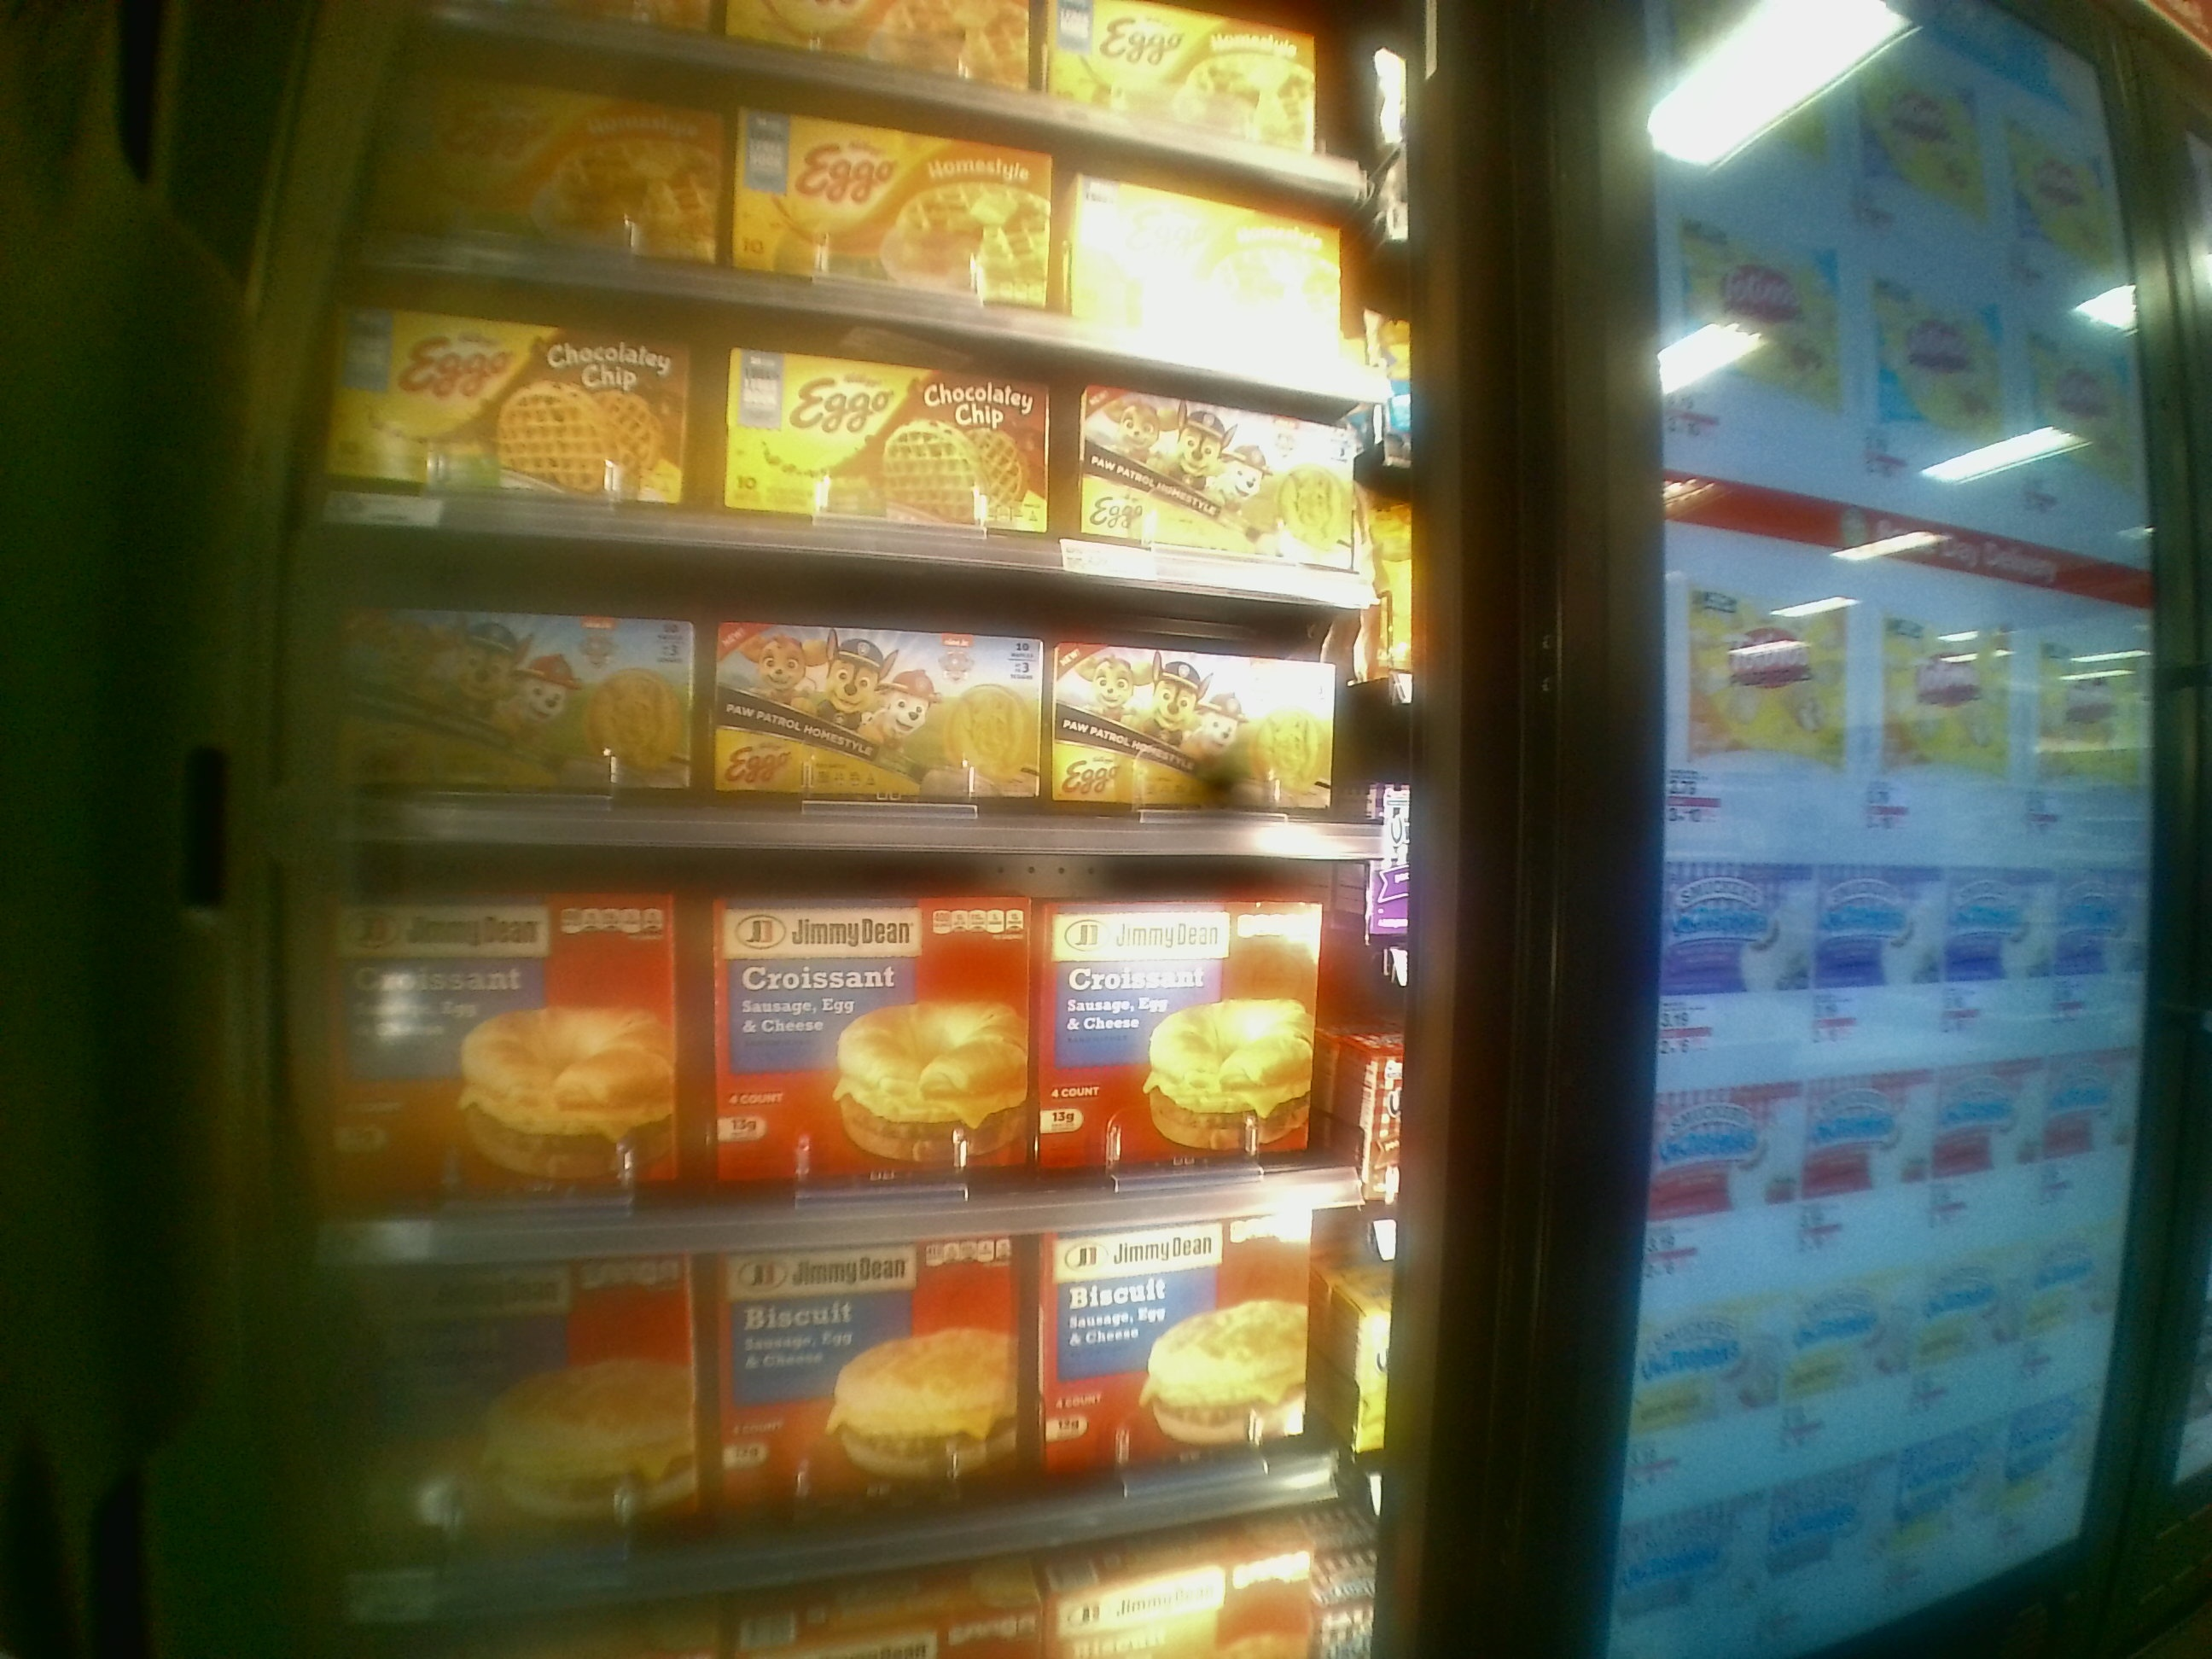shelf: (296, 849, 1400, 1256), (315, 249, 1367, 601), (307, 526, 1400, 852)
